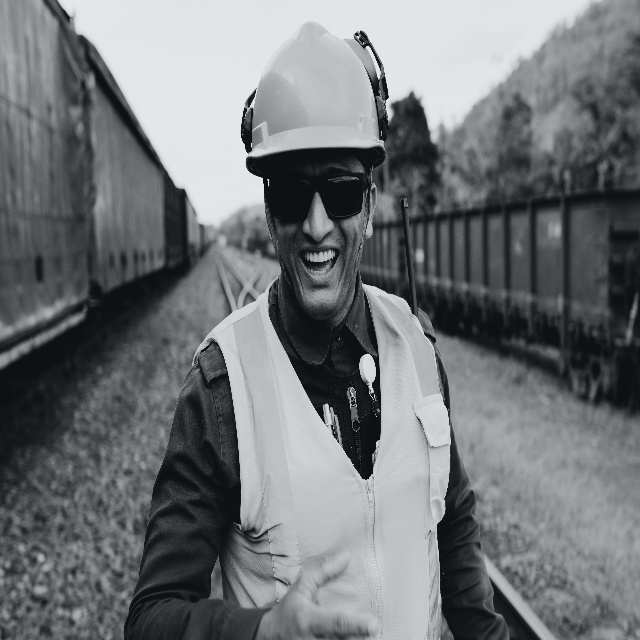Sin_guantes: (269, 566, 371, 631)
